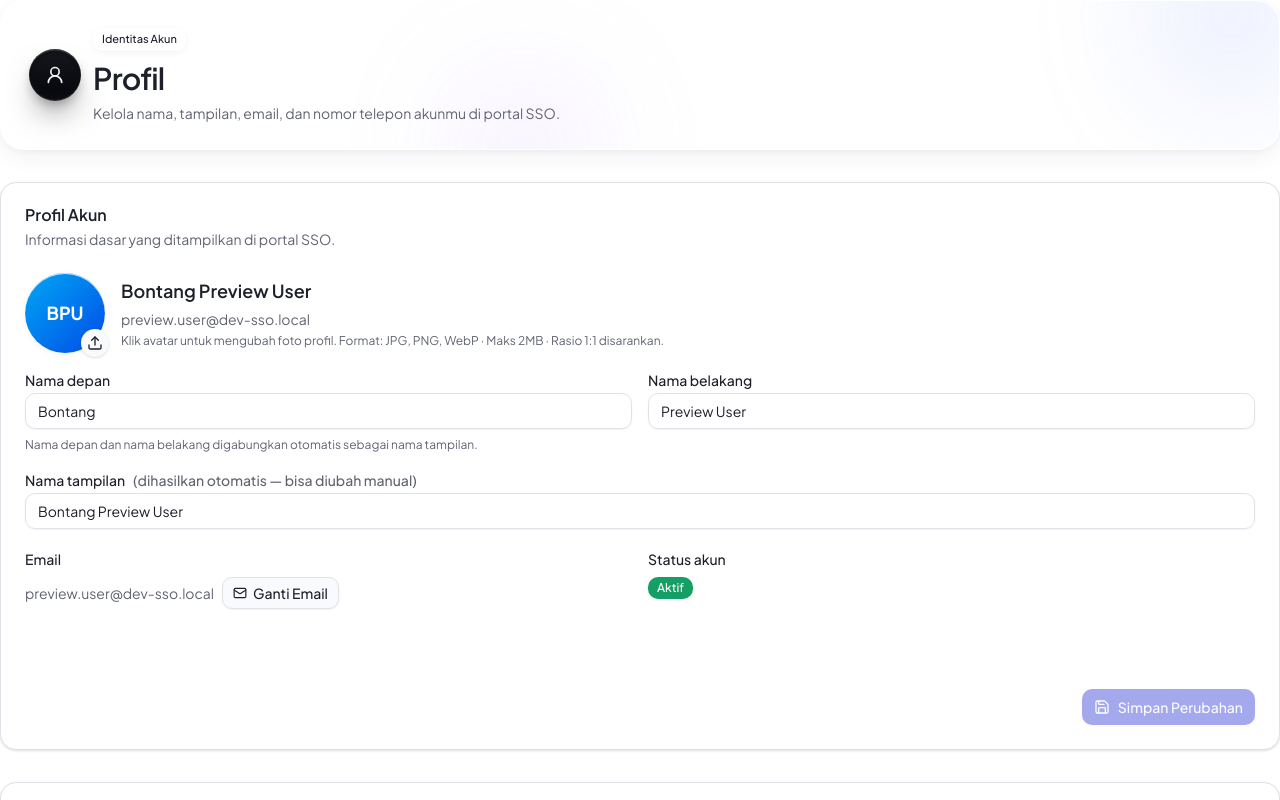
Test: ProfilePage › resets edits when the user cancels changes
The image size is (1280, 800).
Replace the text in the field labelled "Nama tampilan (dihasilkan otomatis — bisa diubah manual)" with "Bontang Preview UserXXX" at (640,511), box left=25, top=493, right=1255, bottom=529
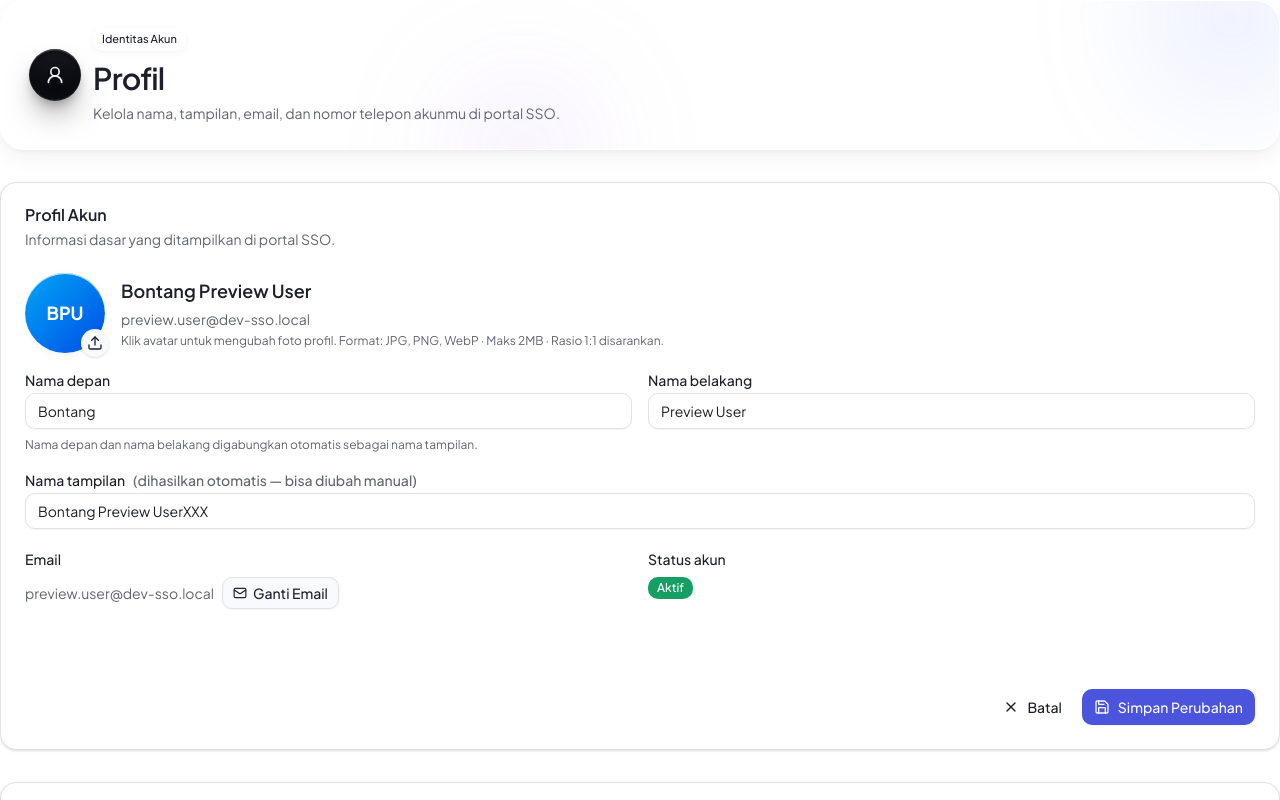
expect the button with test id "profile-save-button" is enabled: met, box left=1082, top=689, right=1255, bottom=725
expect the button with test id "profile-cancel-button" is shown: met
Click the button with test id "profile-cancel-button" at (1033,707), box left=991, top=689, right=1074, bottom=725
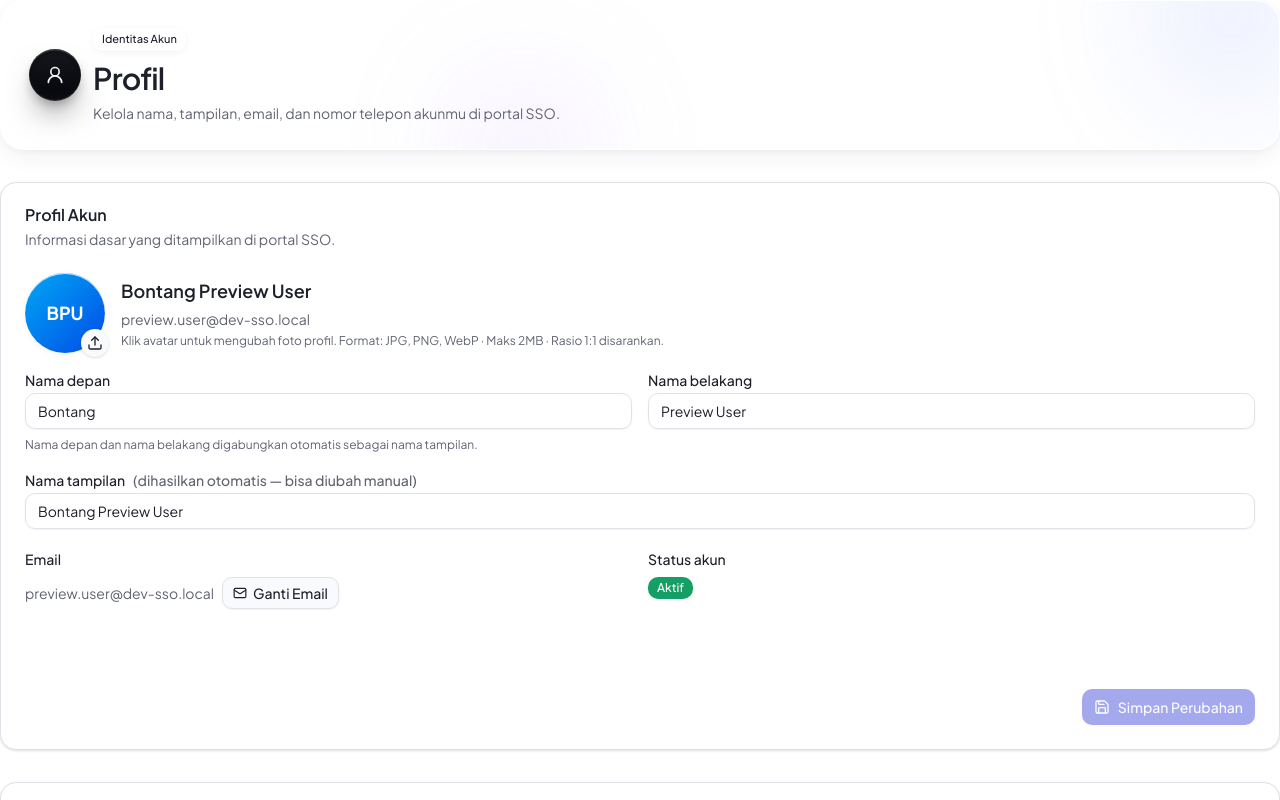
expect the field labelled "Nama tampilan (dihasilkan otomatis — bisa diubah manual)" holds "Bontang Preview User": met, box left=25, top=493, right=1255, bottom=529
